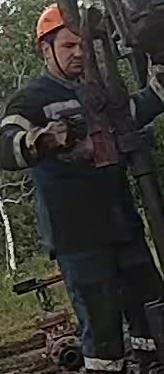gloves: (12, 120, 74, 164)
helmet: (35, 5, 66, 41)
vest: (18, 75, 144, 240)
